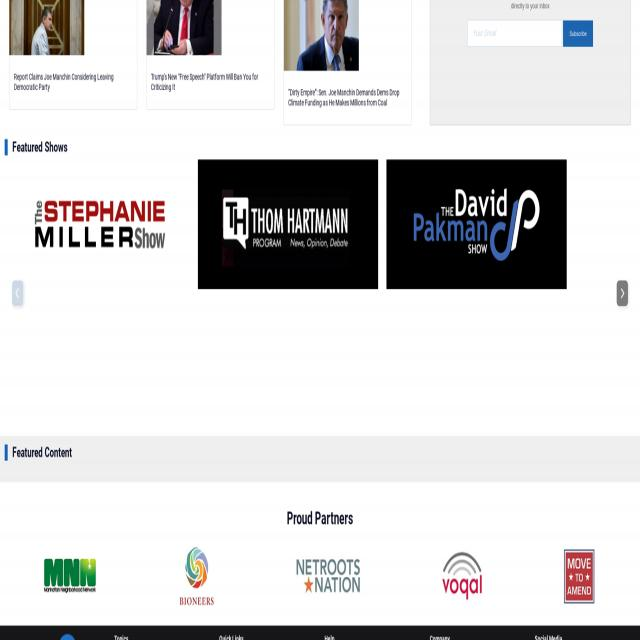button: (387, 159, 567, 289), (9, 160, 190, 289), (198, 160, 378, 289), (284, 0, 358, 71), (146, 0, 222, 56), (10, 0, 84, 55), (294, 556, 362, 597), (175, 545, 217, 608), (439, 550, 485, 604), (562, 546, 598, 607), (43, 558, 97, 595), (563, 20, 593, 46), (12, 280, 24, 307), (616, 280, 628, 306)
field: (468, 20, 562, 48)
